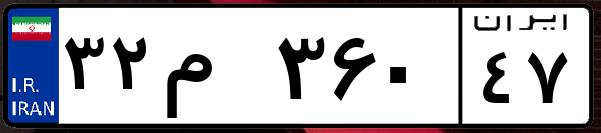0: (385, 28, 445, 110)
2: (110, 28, 158, 98)
3: (270, 28, 330, 110), (57, 26, 110, 100)
4: (475, 38, 525, 113)
6: (330, 28, 385, 110)
7: (525, 38, 570, 115)
م: (158, 20, 270, 120)
